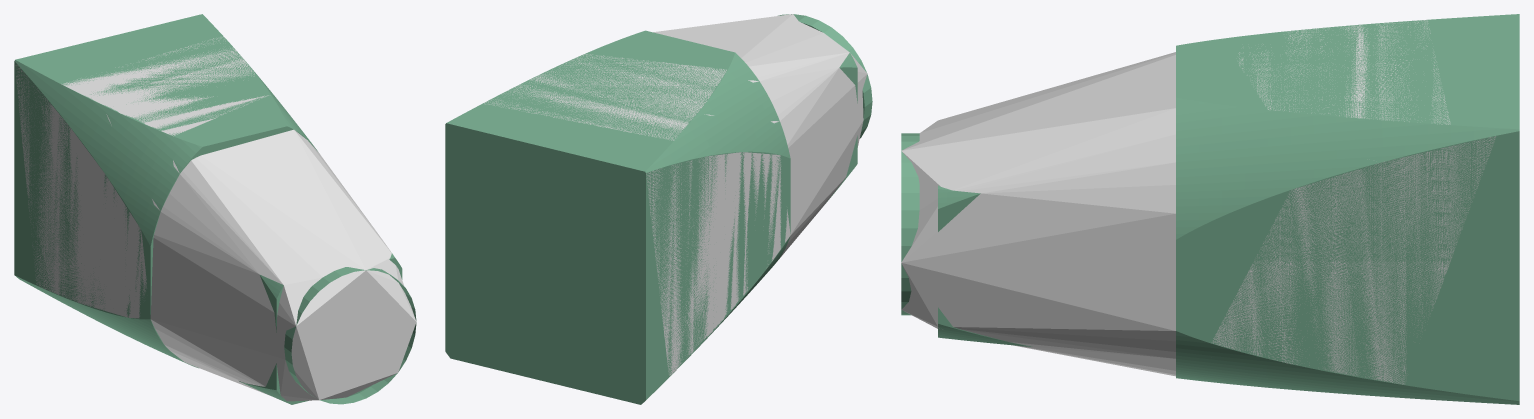
File: radar_tray.fbx
3 views of the same model, side by side, from view 1: azimuth 30°, elevation 25°; view 2: azimuth 150°, elevation 25°; view 3: azimuth 270°, elevation 25° (orthographic). The views are drawn at different scales.
Parts seen in each view (by area): view 1: radar_tray_colmesh0, radar_tray; view 2: radar_tray, radar_tray_colmesh0; view 3: radar_tray, radar_tray_colmesh0.
Part boxes in pixels (x1=…): radar_tray_colmesh0: x1=15, y1=36, x2=416, y2=401; radar_tray: x1=14, y1=14, x2=416, y2=404; radar_tray: x1=445, y1=14, x2=872, y2=404; radar_tray_colmesh0: x1=484, y1=14, x2=867, y2=377; radar_tray: x1=901, y1=14, x2=1519, y2=404; radar_tray_colmesh0: x1=901, y1=20, x2=1495, y2=384.
Size of what is drawn, in the model's own units: 0.6 by 0.67 by 1.35.
